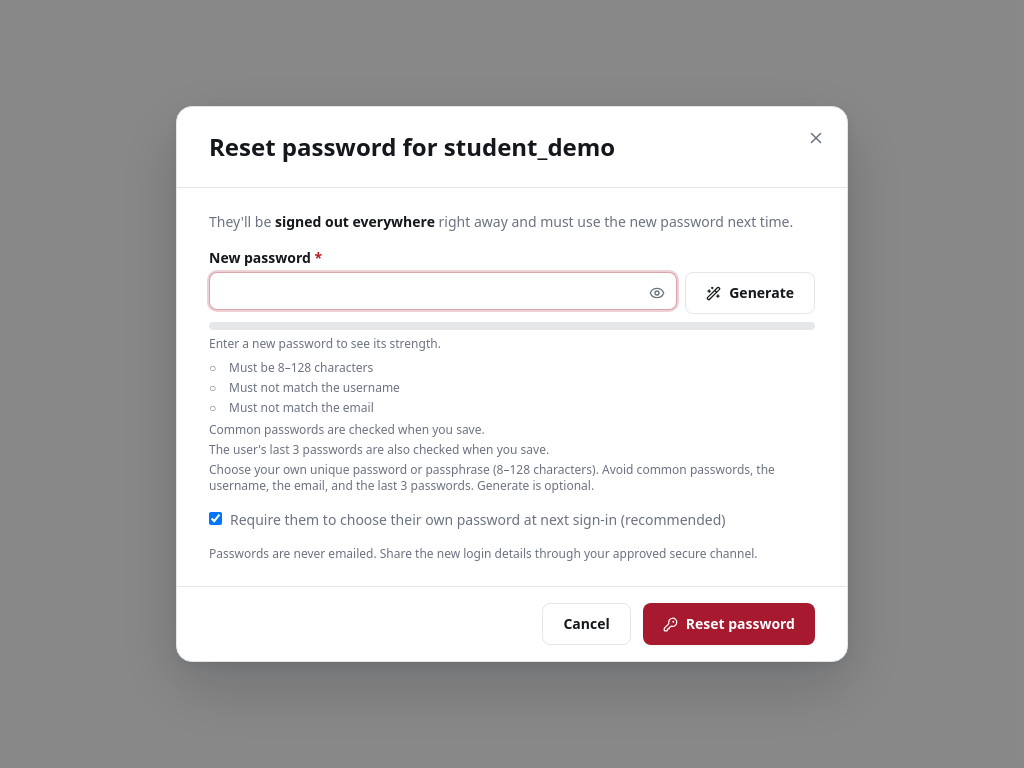
Test: keeps a reset password transiently for reconciliation after an ambiguous failure, then clears on close
In the password field labelled "New password *": x=443, y=291 [209,272,677,310], type "Tmp!pass-1234"
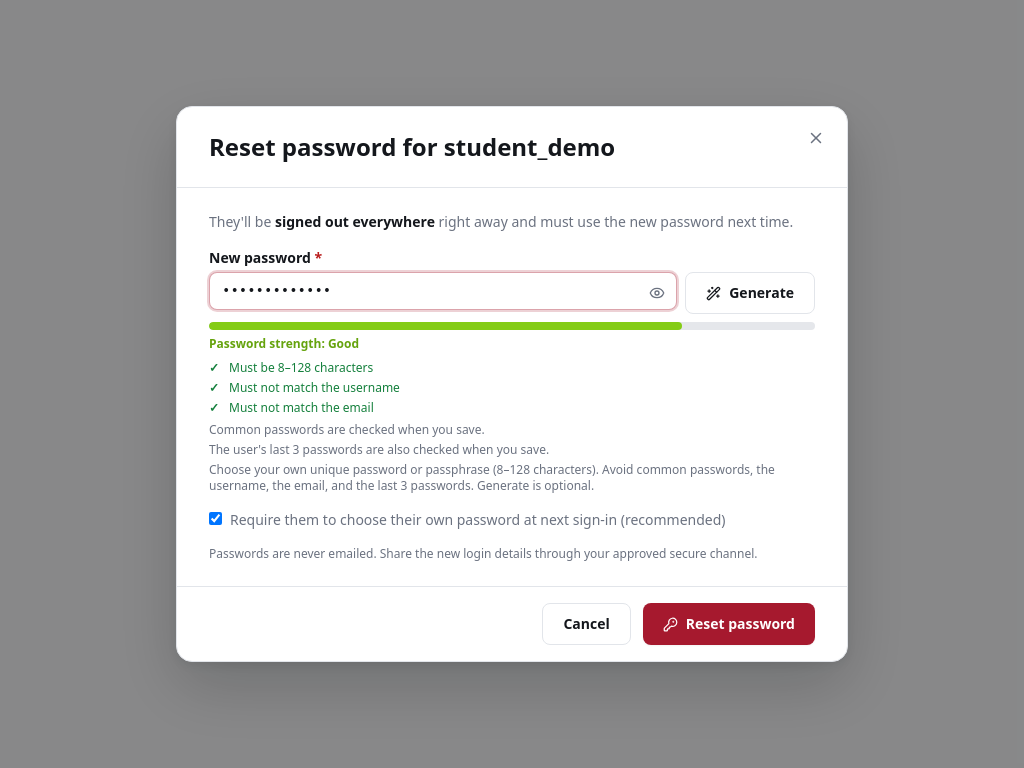
Expected: the element with test id "password-strength-meter" is shown, [209,322,815,458]
Result: the message shows "Password strength:" at [209,335,359,352]
Click the button "Reset password": x=729, y=624 [643,603,815,645]
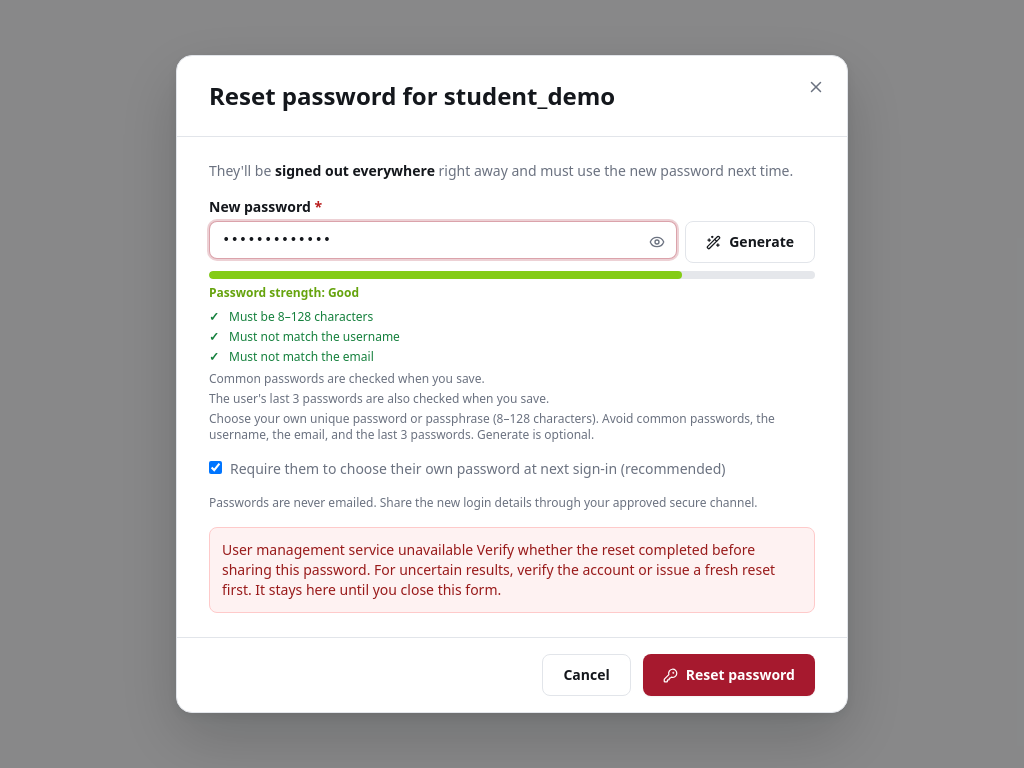
Result: the 2nd message shows "verify whether the reset completed before sharing" at [222,540,775,599]
Result: the 2nd message shows "issue a fresh reset first" at [222,540,775,599]
Click the button "Cancel": x=587, y=675 [542,654,631,696]
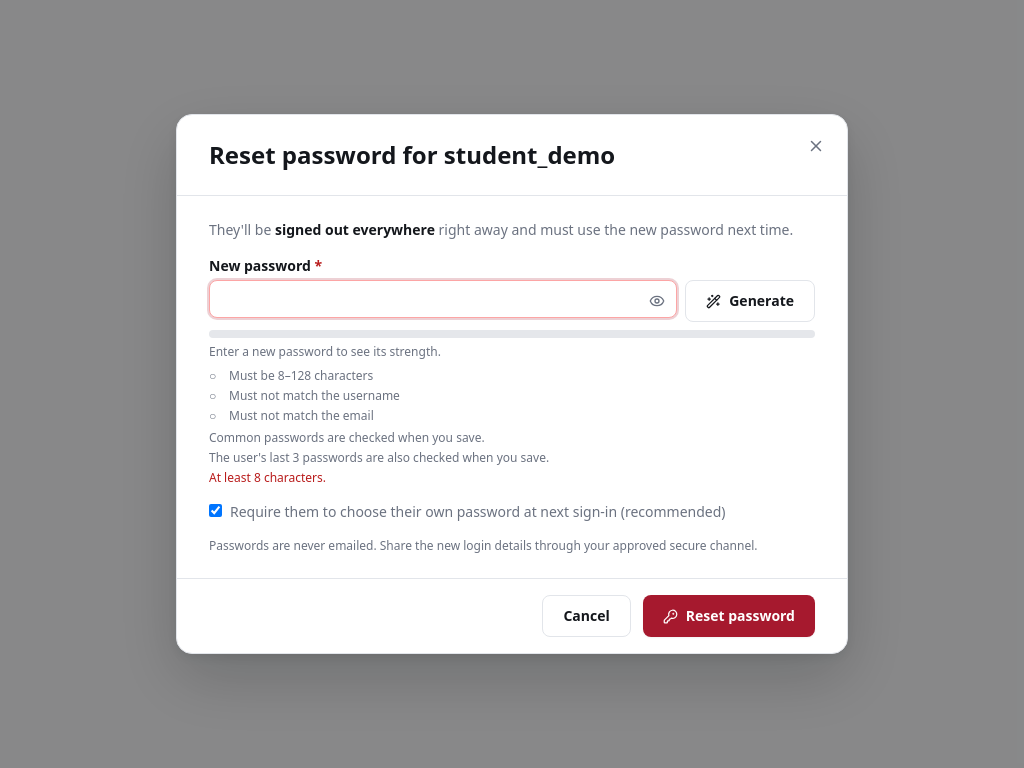
Result: the password field labelled "New password *" is empty at [209,280,677,318]
